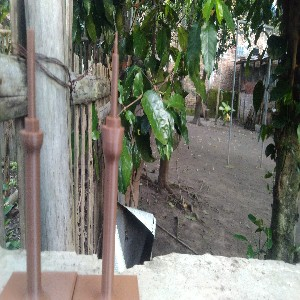obeng: (18, 28, 45, 300)
solder: (99, 30, 126, 300)
